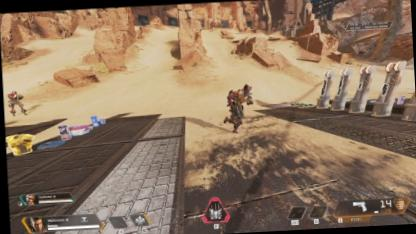Target: (222, 82, 255, 134), (6, 89, 24, 117)
